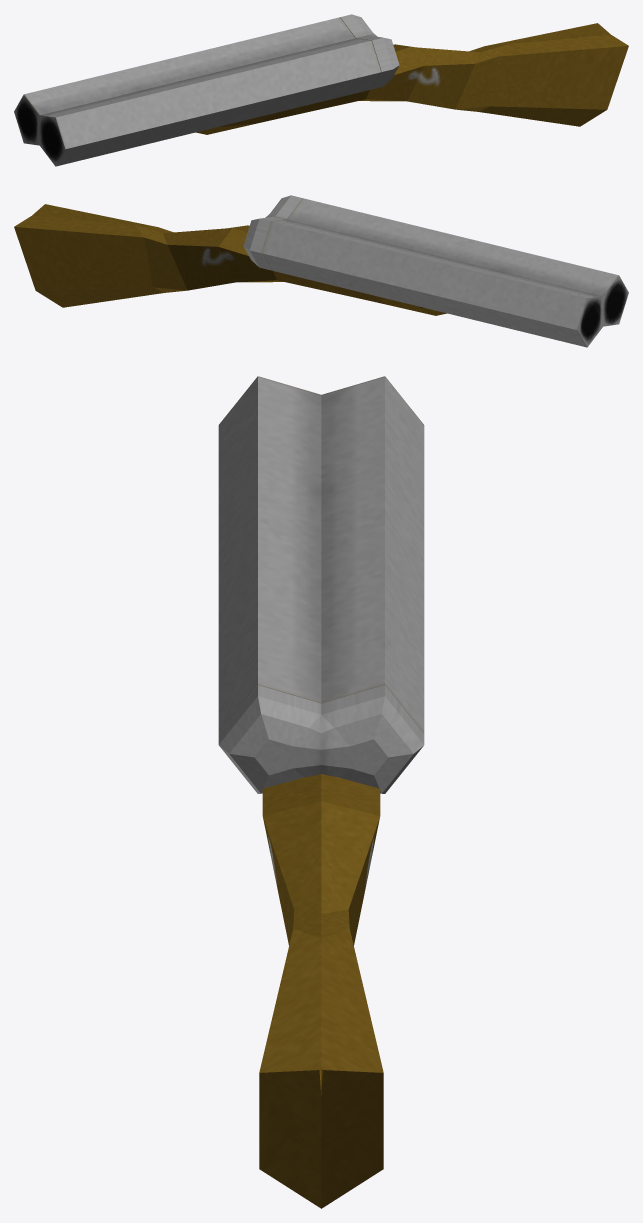
File: shotgun.fbx
3 renders of one model, top to bottom at view 1: azimuth 30°, elevation 25°; view 2: azimuth 150°, elevation 25°; view 3: azimuth 270°, elevation 25°, orthographic. The views are drawn at different scales.
Parts seen in each view (by area): view 1: barre, stock; view 2: barre, stock; view 3: barre, stock.
Boxes of the visible parts, box(x1,y1,x2,y2) form: barre: box(14, 17, 381, 166); stock: box(340, 14, 628, 126); barre: box(261, 198, 628, 347); stock: box(14, 195, 302, 307); barre: box(218, 376, 424, 733); stock: box(218, 685, 424, 1208).
Bounding box in the file's own units: 150 × 38.23 × 23.35.
